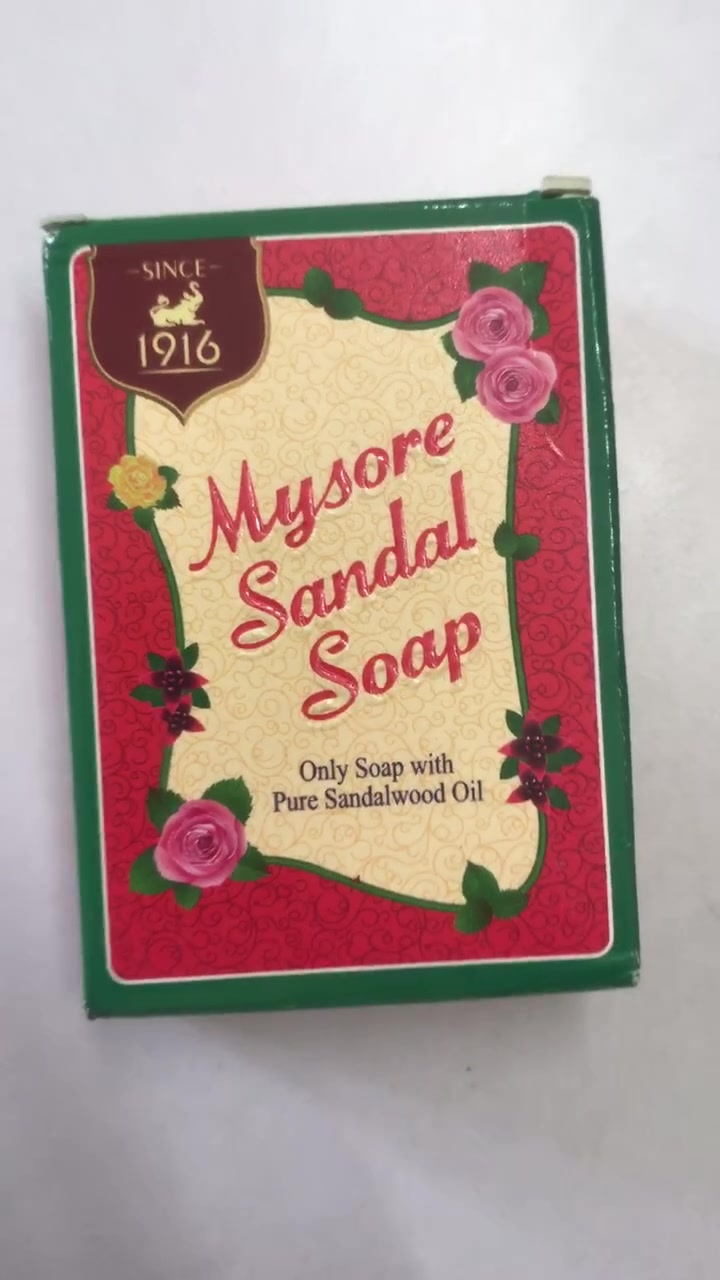mysore sandal soap: (52, 225, 639, 999)
